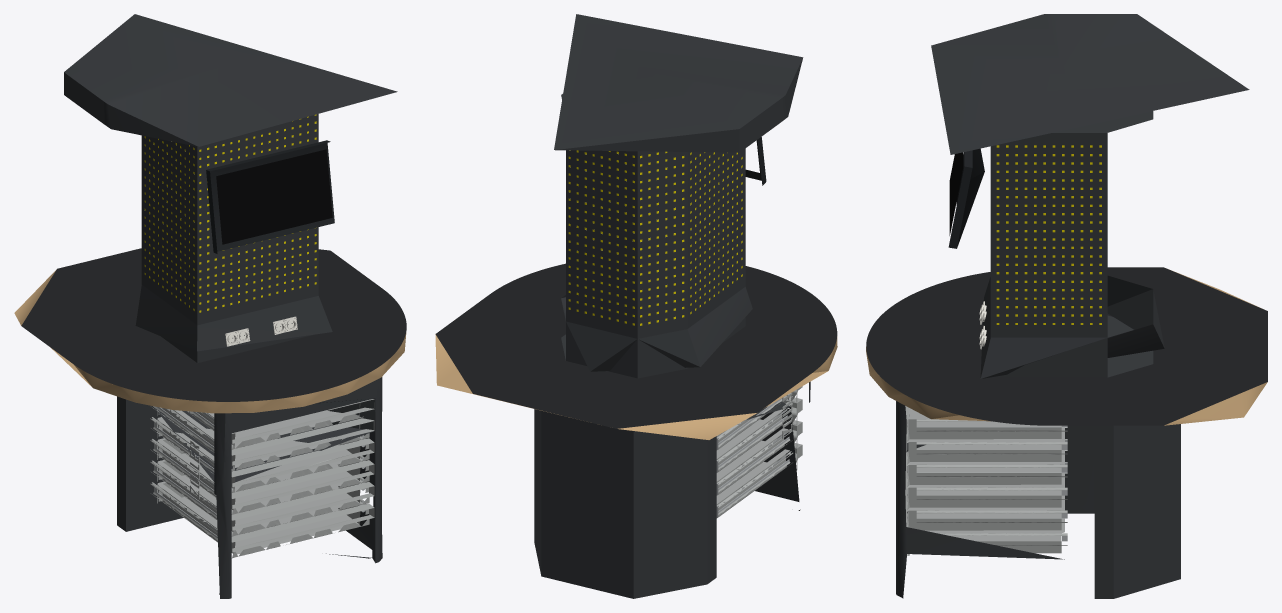
Rendered from ztower.5abc117f3e.glb.
3 views of the same model, side by side, from view 1: azimuth 30°, elevation 25°; view 2: azimuth 150°, elevation 25°; view 3: azimuth 270°, elevation 25° (orthographic). The views are drawn at different scales.
Visible parts, largest first — view 1: ztower; view 2: ztower; view 3: ztower.
Part boxes in pixels (x1,y1,x2,y2): ztower: [14, 14, 406, 598]; ztower: [435, 14, 837, 598]; ztower: [866, 14, 1267, 598].
Size of the model in its own units: 1.49 by 2.1 by 1.6.
